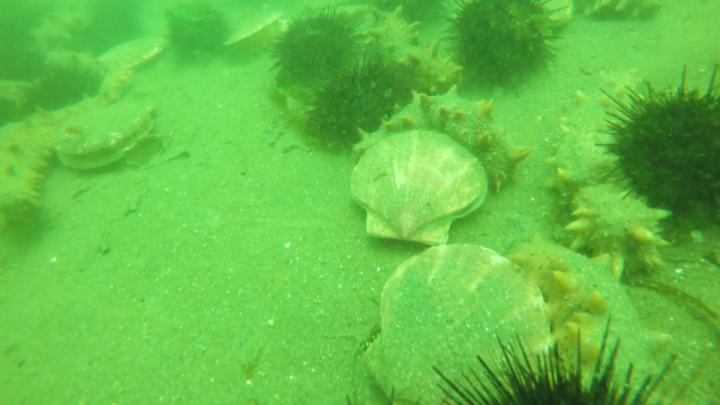echinus: (600, 68, 720, 229), (435, 327, 667, 405), (437, 2, 568, 100), (307, 60, 415, 146), (272, 7, 360, 91), (16, 63, 104, 118), (164, 1, 232, 64), (70, 5, 146, 57), (2, 44, 50, 88)
holothurian: (545, 66, 671, 276), (513, 236, 670, 401), (365, 87, 527, 191), (360, 4, 460, 96), (3, 119, 59, 228), (34, 5, 92, 64), (562, 1, 670, 28)
scallop: (352, 241, 555, 405), (350, 125, 491, 247), (61, 101, 159, 178), (223, 13, 296, 56), (93, 36, 167, 71)
